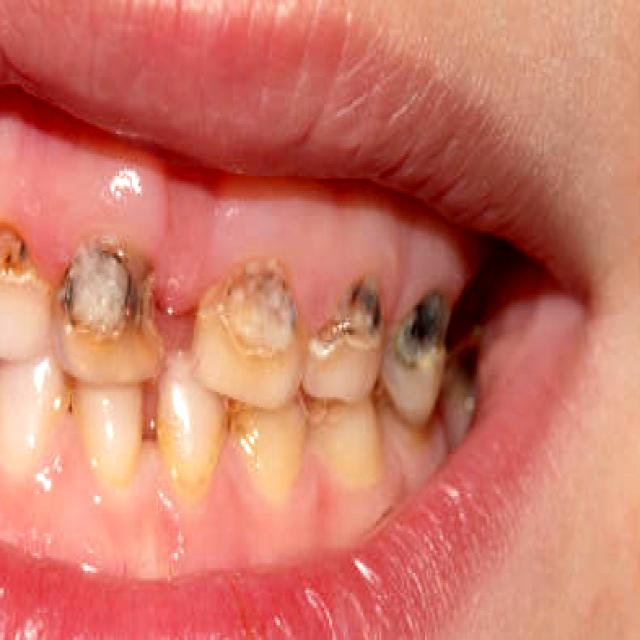cariess: (200, 268, 296, 360), (60, 248, 151, 342), (309, 275, 381, 360), (392, 293, 451, 367), (443, 350, 476, 444), (0, 228, 31, 273)
